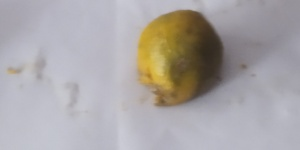BAD: (138, 11, 222, 109)
